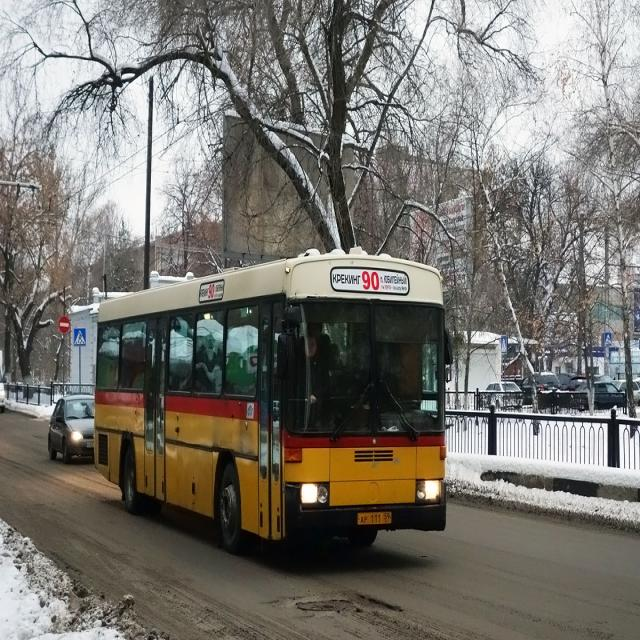number-of-bus: (361, 271, 381, 292), (209, 283, 216, 301)
